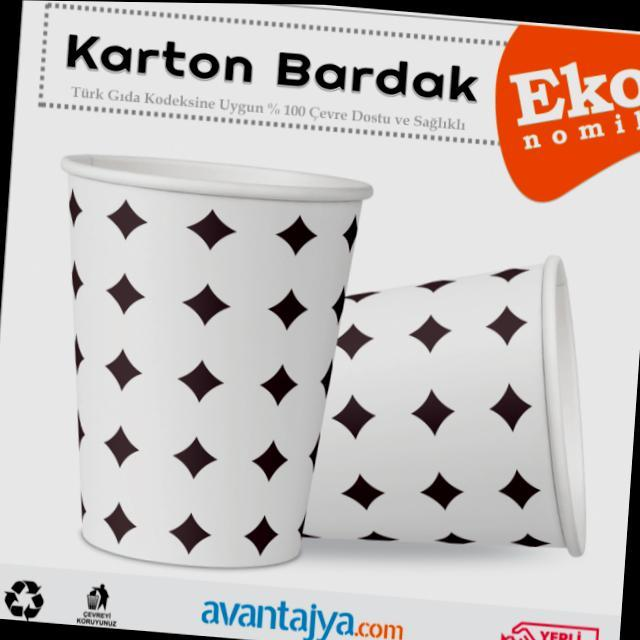cup: (28, 153, 364, 577)
